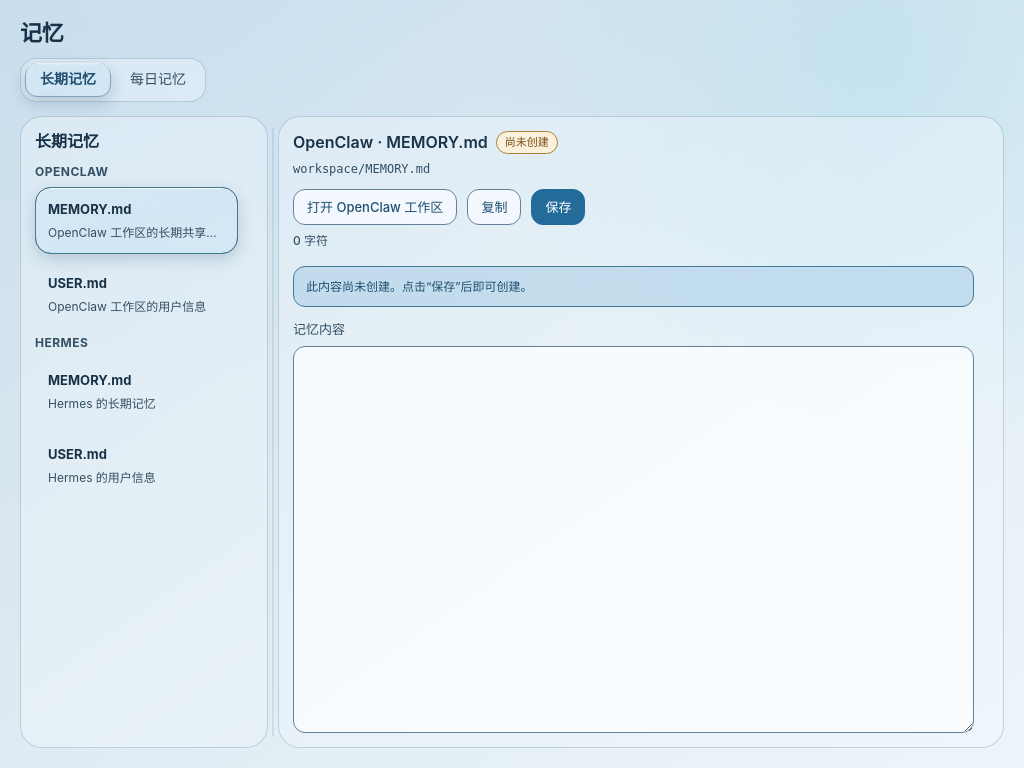
Test: MemoryPage native business management › keeps a missing OpenClaw document absent until explicit save
Expected: the text "此内容尚未创建。点击“保存”后即可创建。" is shown, [293, 266, 974, 307]
Expected: the text box labelled "记忆内容" is empty, [293, 346, 974, 733]
Click the button "保存" at (558, 207), box [531, 189, 585, 225]
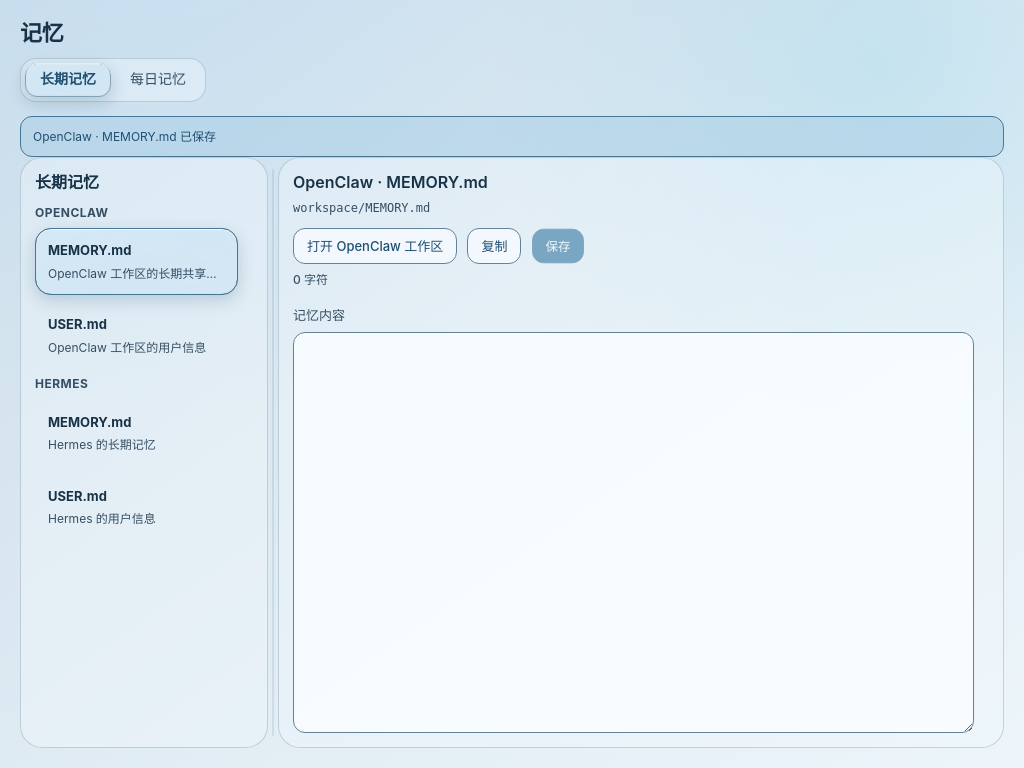
Expected: the text "OpenClaw · MEMORY.md 已保存" is shown, [20, 116, 1004, 157]
Expected: the text "此内容尚未创建。点击“保存”后即可创建。" is gone
